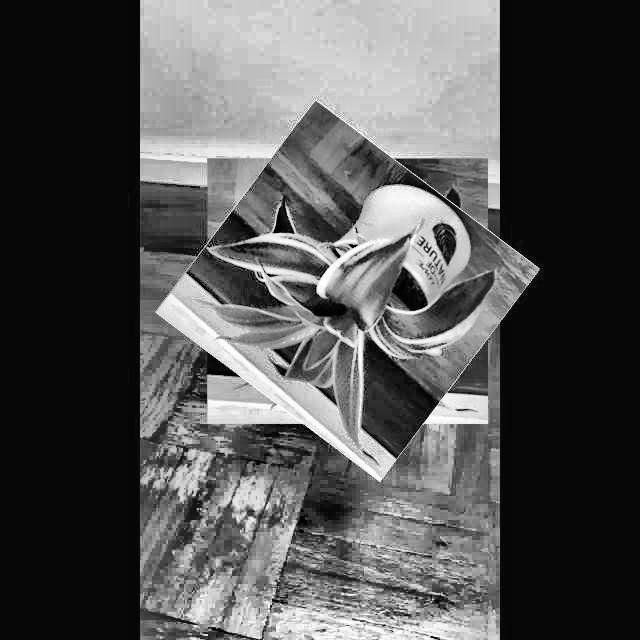plants: (181, 129, 514, 453)
